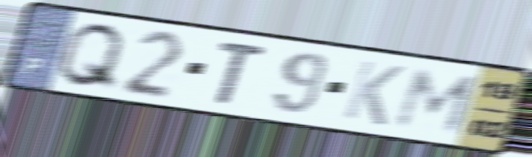2: (119, 28, 189, 102)
9: (270, 49, 331, 116)
K: (339, 57, 408, 129)
M: (389, 66, 484, 136)
Q: (51, 20, 129, 94)
T: (214, 38, 271, 108)
